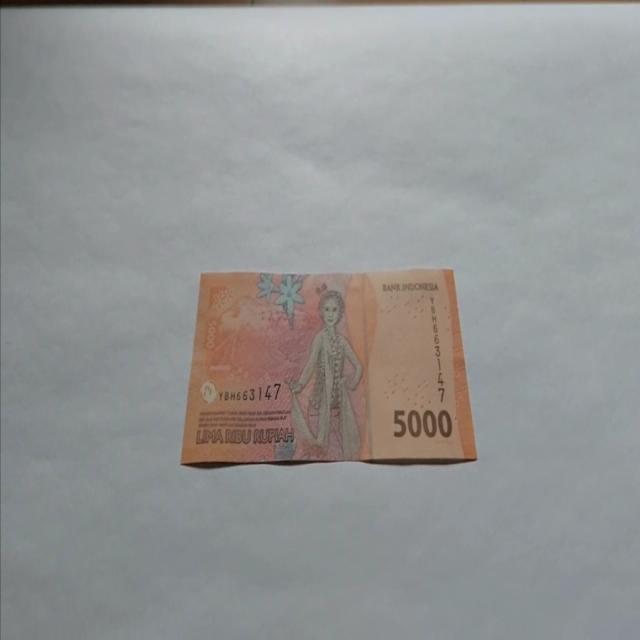lima ribu rupiah: (180, 266, 478, 468), (284, 287, 364, 461)
